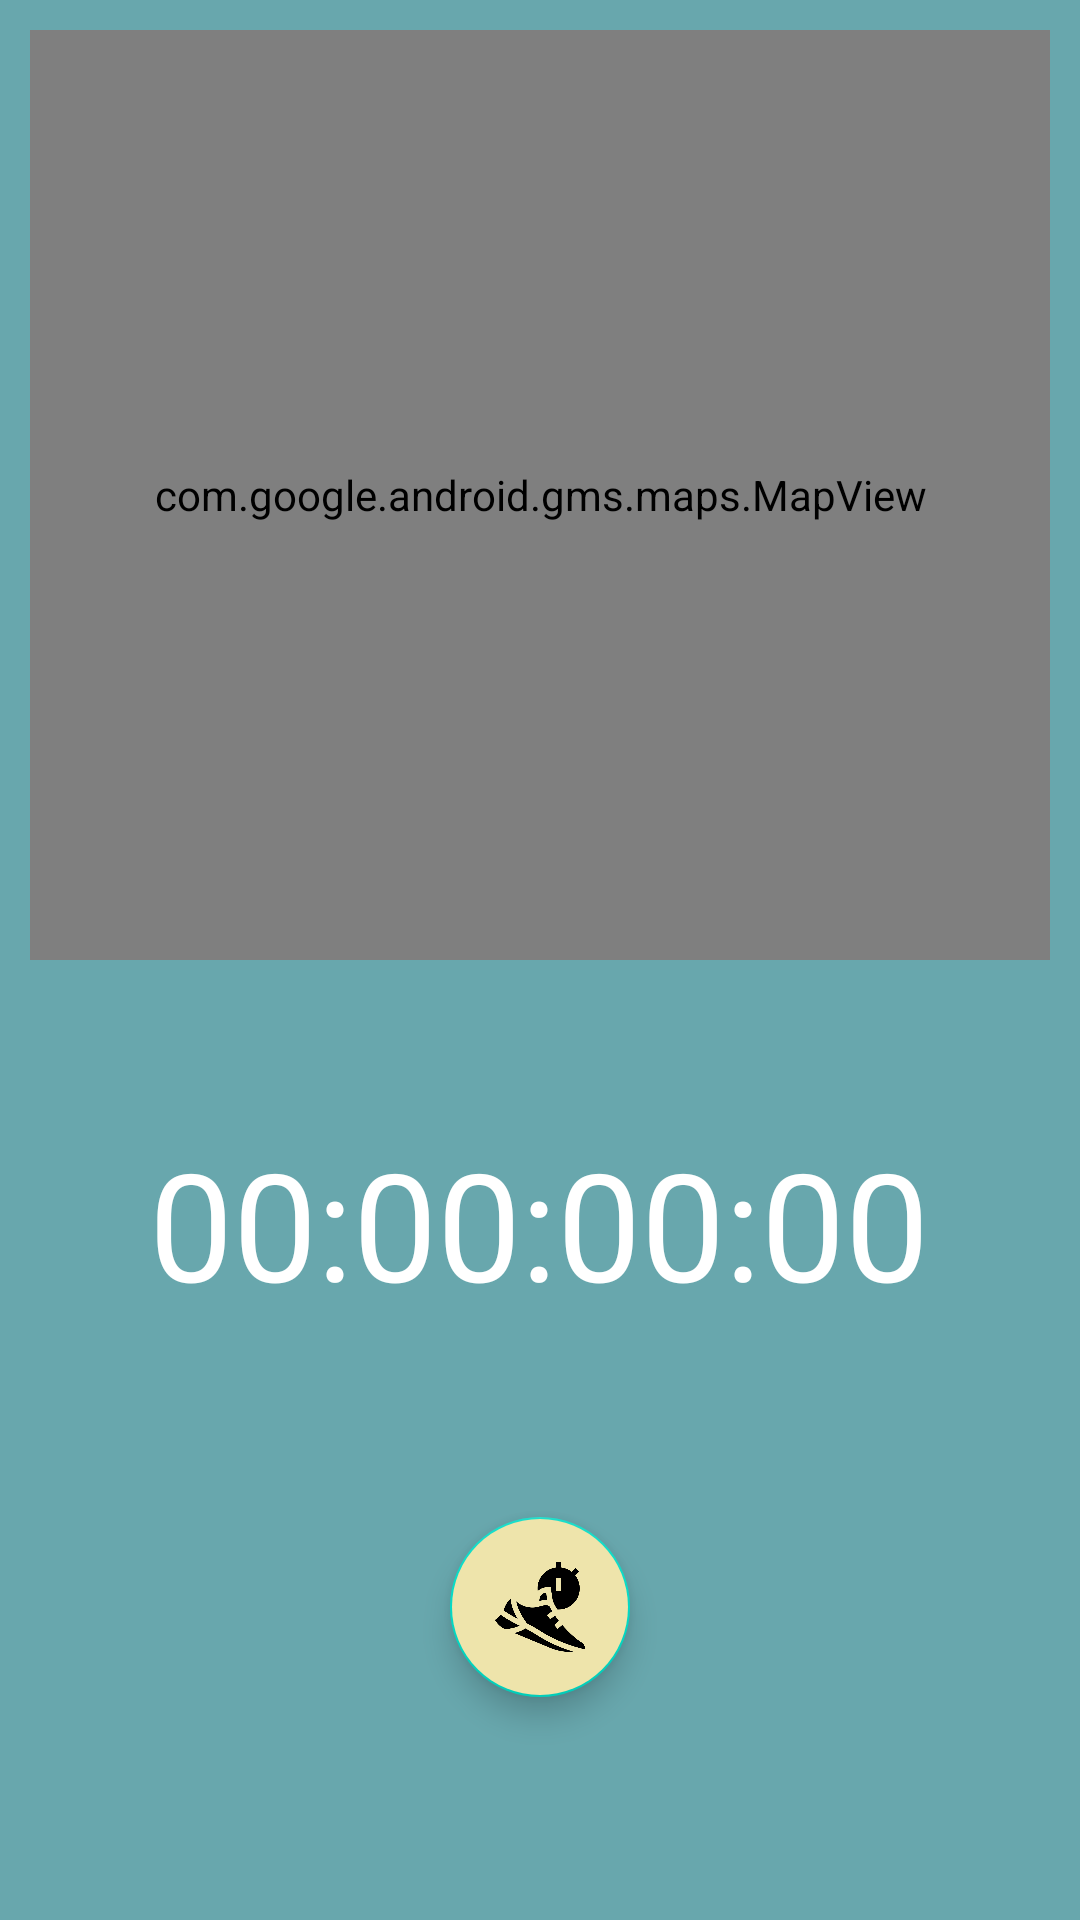

Locate icon controls on the screen. Image size 1080px×1920px, boxes as BBox(x1, y1, x2, y2).
running: BBox(450, 1517, 630, 1697)
